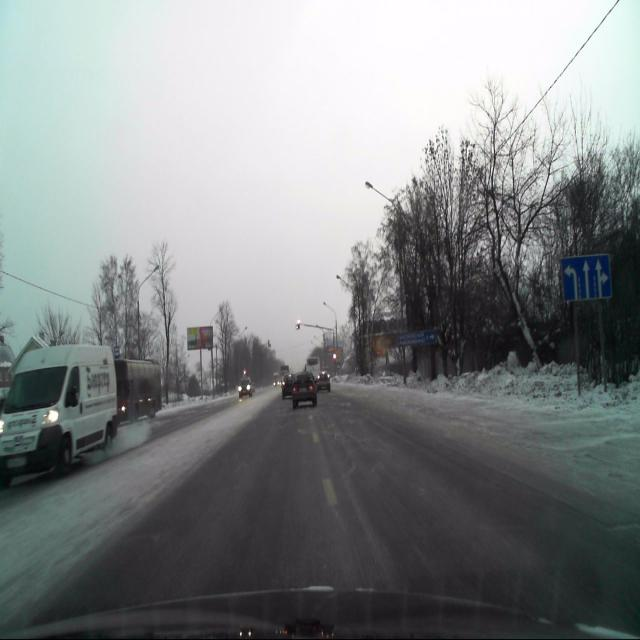road sign: (561, 254, 613, 300)
